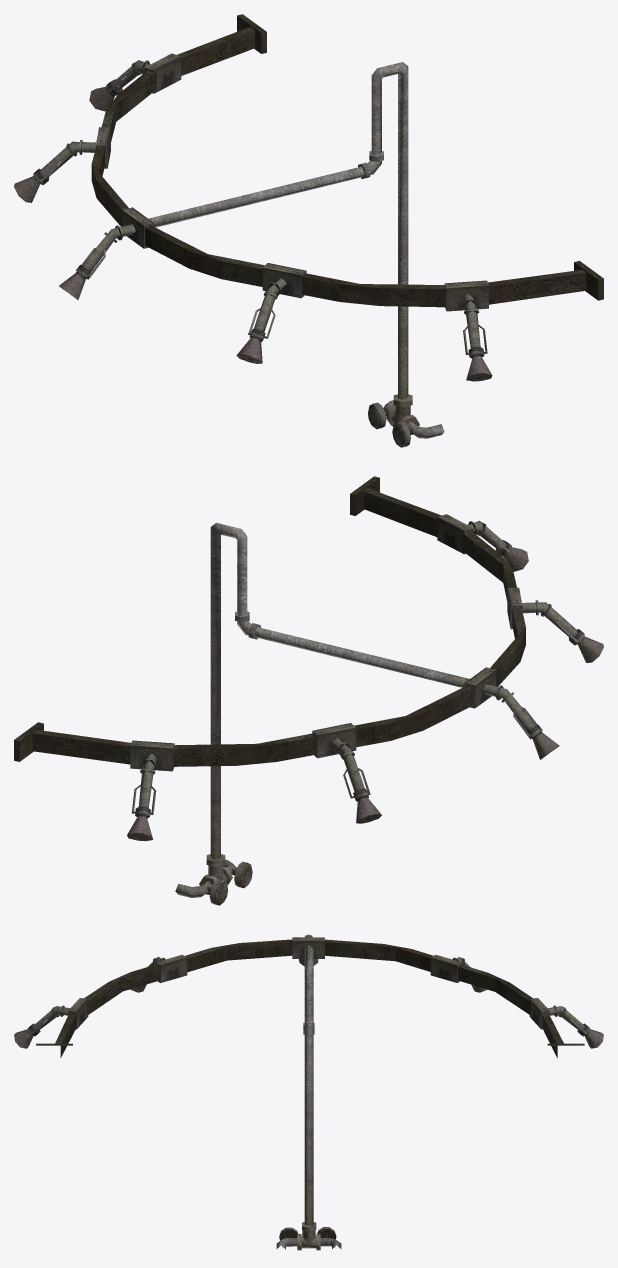
Rendered from shower_system001a.glb.
3 views of the same model, one above another, from view 1: azimuth 30°, elevation 25°; view 2: azimuth 150°, elevation 25°; view 3: azimuth 270°, elevation 25° (orthographic). The views are drawn at different scales.
Visible parts, largest first — view 1: 0_prison_yard001; view 2: 0_prison_yard001; view 3: 0_prison_yard001.
Part boxes in pixels (<box>): 0_prison_yard001: <box>14,14,603,447</box>; 0_prison_yard001: <box>14,476,603,905</box>; 0_prison_yard001: <box>14,934,603,1250</box>.
Bounding box in the file's own units: 2.04 × 1.99 × 3.78.
Materials: 1 (1 with a texture image).
